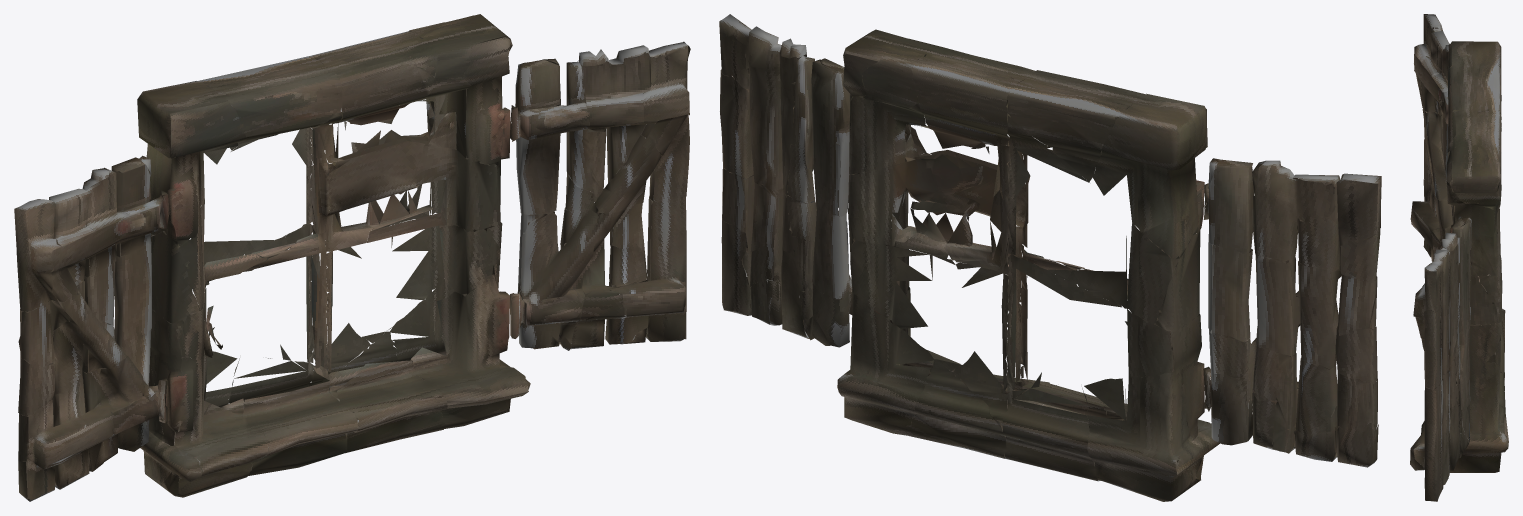
The model's file is mn_window.glb.
3 views of the same model, side by side, from view 1: azimuth 30°, elevation 25°; view 2: azimuth 150°, elevation 25°; view 3: azimuth 270°, elevation 25° (orthographic). The views are drawn at different scales.
Parts seen in each view (by area): view 1: mn_window; view 2: mn_window; view 3: mn_window.
Boxes of the visible parts, x1,y1,x2,y2 form: mn_window: (14,14,690,501); mn_window: (719,14,1381,501); mn_window: (1410,14,1508,501).
Size of the model in its own units: 1.91 by 1.05 by 0.3066.
1 material, 1 textured.
